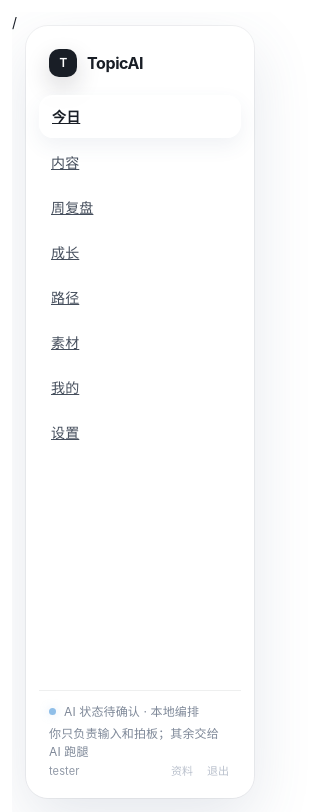
Test: Sidebar › logs out and navigates to login
What coordinates should you click on to do the following:
click the button with aria-label "退出登录"
I would click on:
 (218, 771)
Its box is [205,762,231,779].
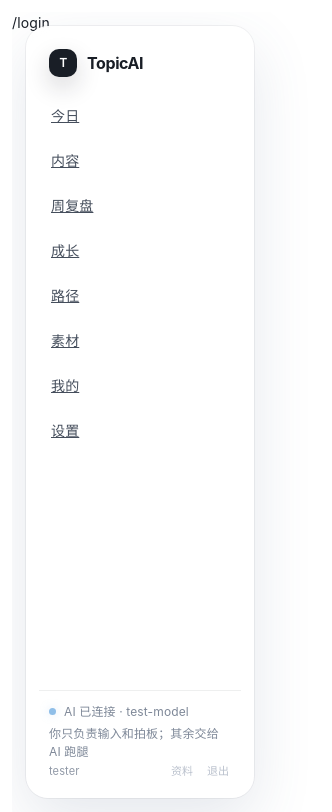
Expected: the text with test id "current-path" reads "/login", [12,14,50,31]
